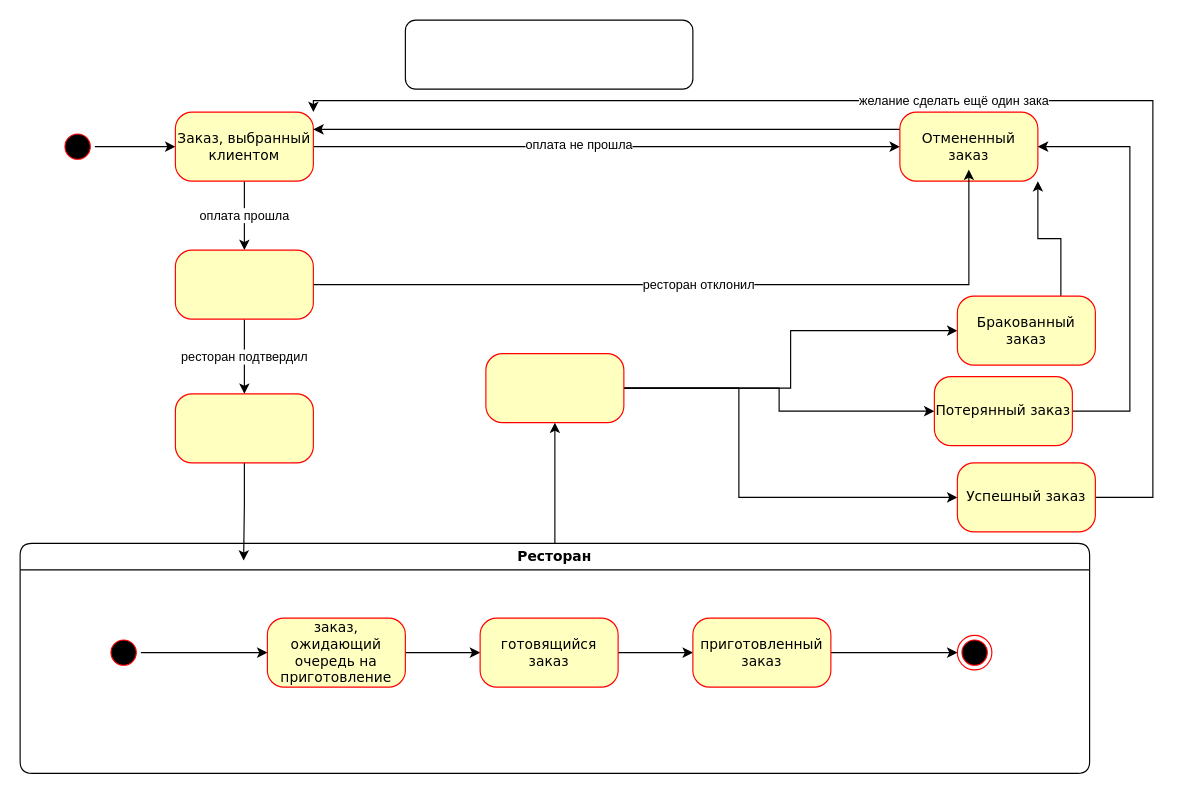
Image size: 1182x794. Some labels were removed from this diagram. Here are the shapes that lost their labels. From the top down, the box of each, then its label:
(404, 19, 693, 89): Диаграмма состояний
(174, 249, 313, 319): Оплаченный заказ
(485, 352, 624, 423): Доставляемый заказ
(174, 393, 313, 463): Заказ подтверждённый рестораном
